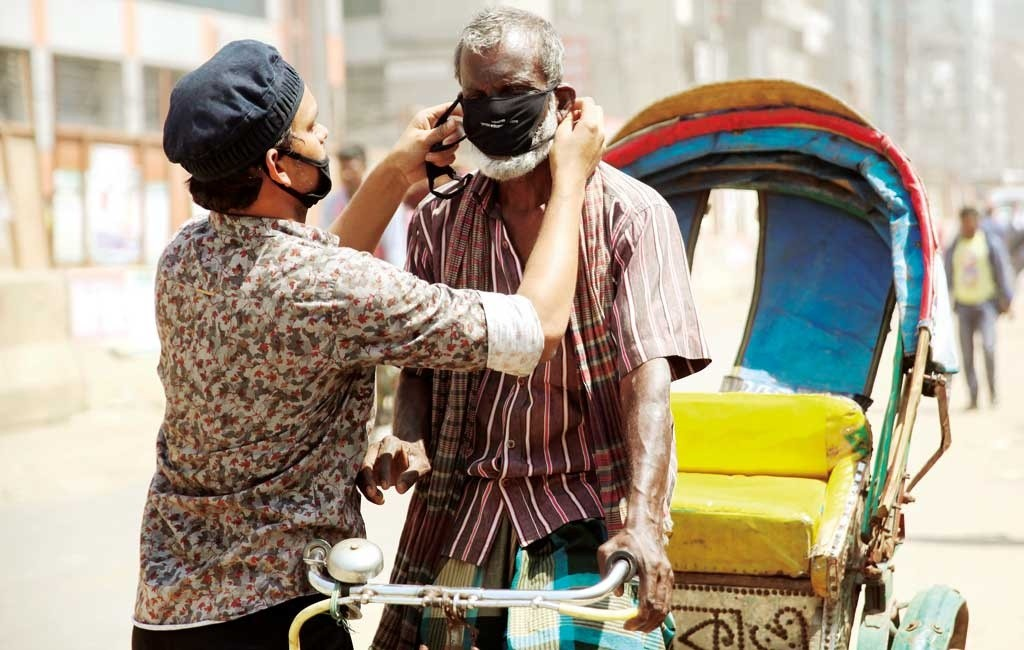face_with_mask: (161, 38, 333, 211), (454, 11, 574, 162)
